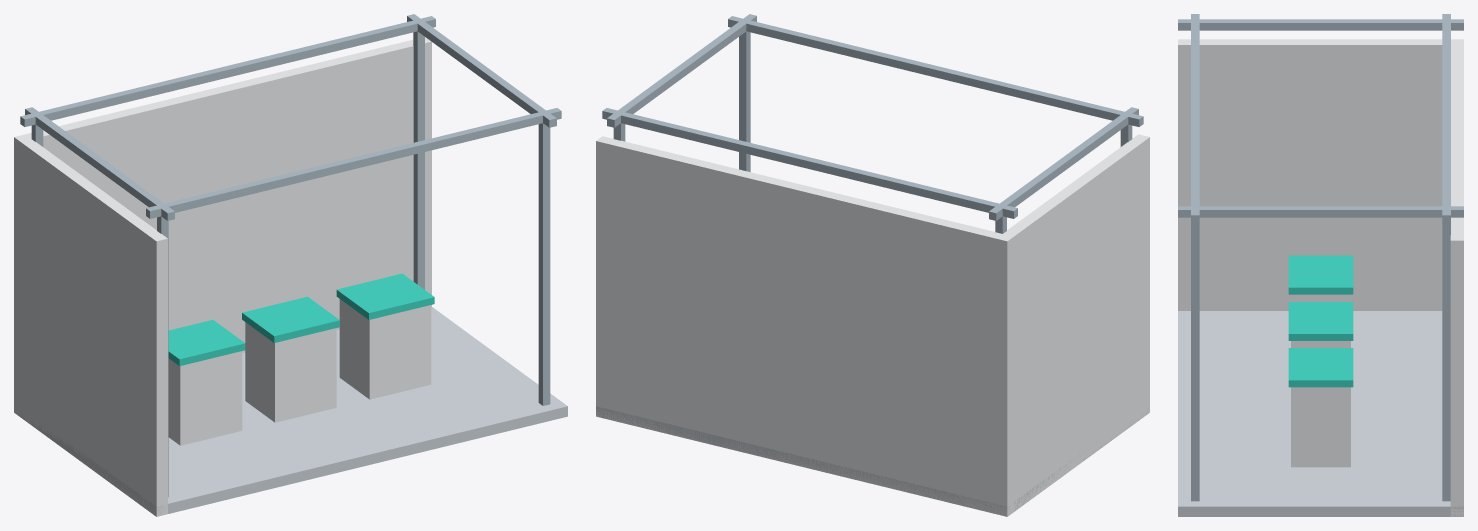
3 renders of one model, left to right at view 1: azimuth 30°, elevation 25°; view 2: azimuth 150°, elevation 25°; view 3: azimuth 270°, elevation 25°, orthographic.
Parts seen in each view (by area): view 1: Exhibition Booth Concept; view 2: Exhibition Booth Concept; view 3: Exhibition Booth Concept.
Part boxes in pixels (x1,y1,x2,y2): Exhibition Booth Concept: (14, 14, 567, 516); Exhibition Booth Concept: (596, 14, 1149, 516); Exhibition Booth Concept: (1178, 14, 1463, 516).
Bounding box in the file's own units: 5 × 3.49 × 3.
